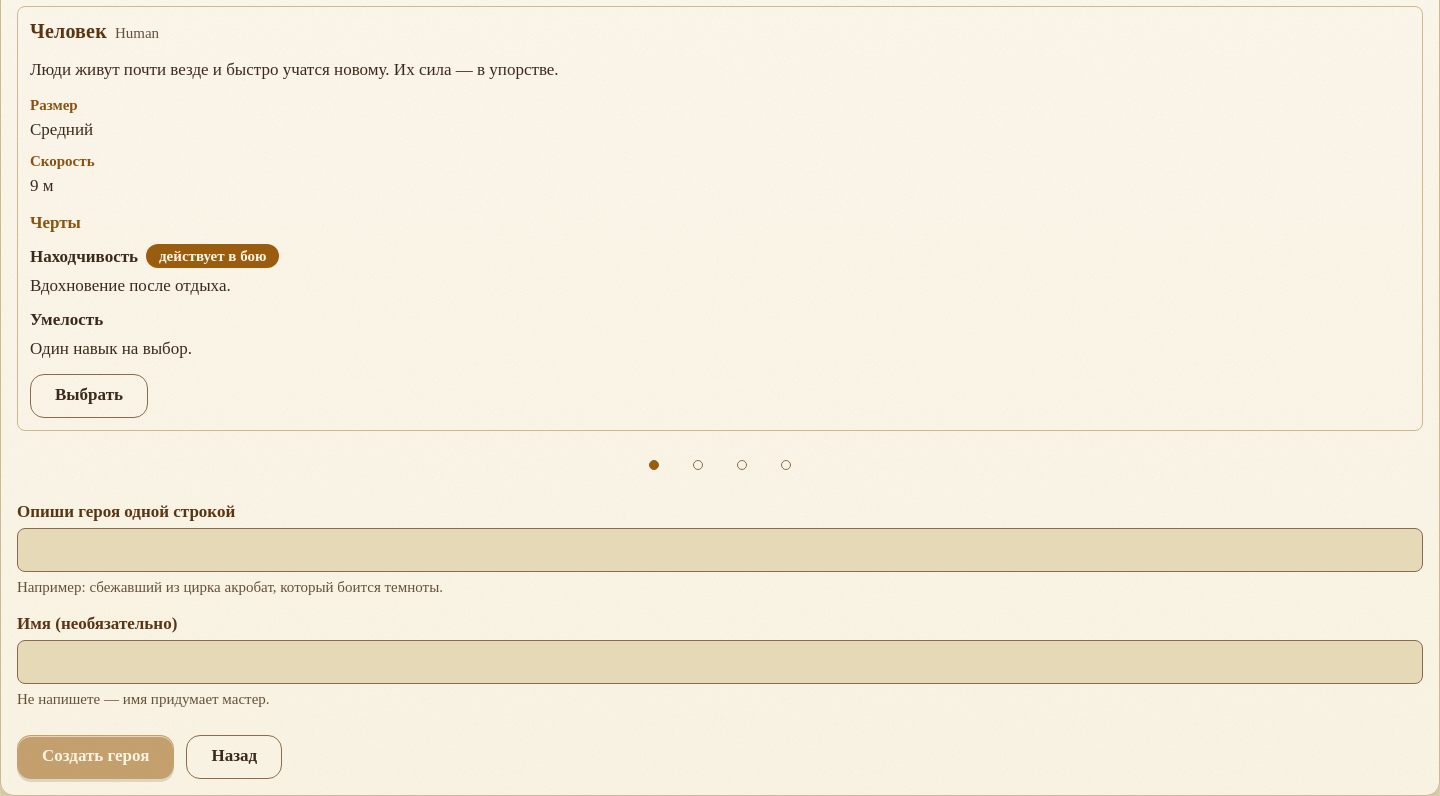
Test: форма быстрого героя › выбор в карусели отмечает показанную карточку «Выбрано»
(page scrolled)
Check: the button "Выбрано" is not shown
Click the button named "Дварф": (742, 464) x1=720 y1=442 x2=764 y2=486
(page scrolled)
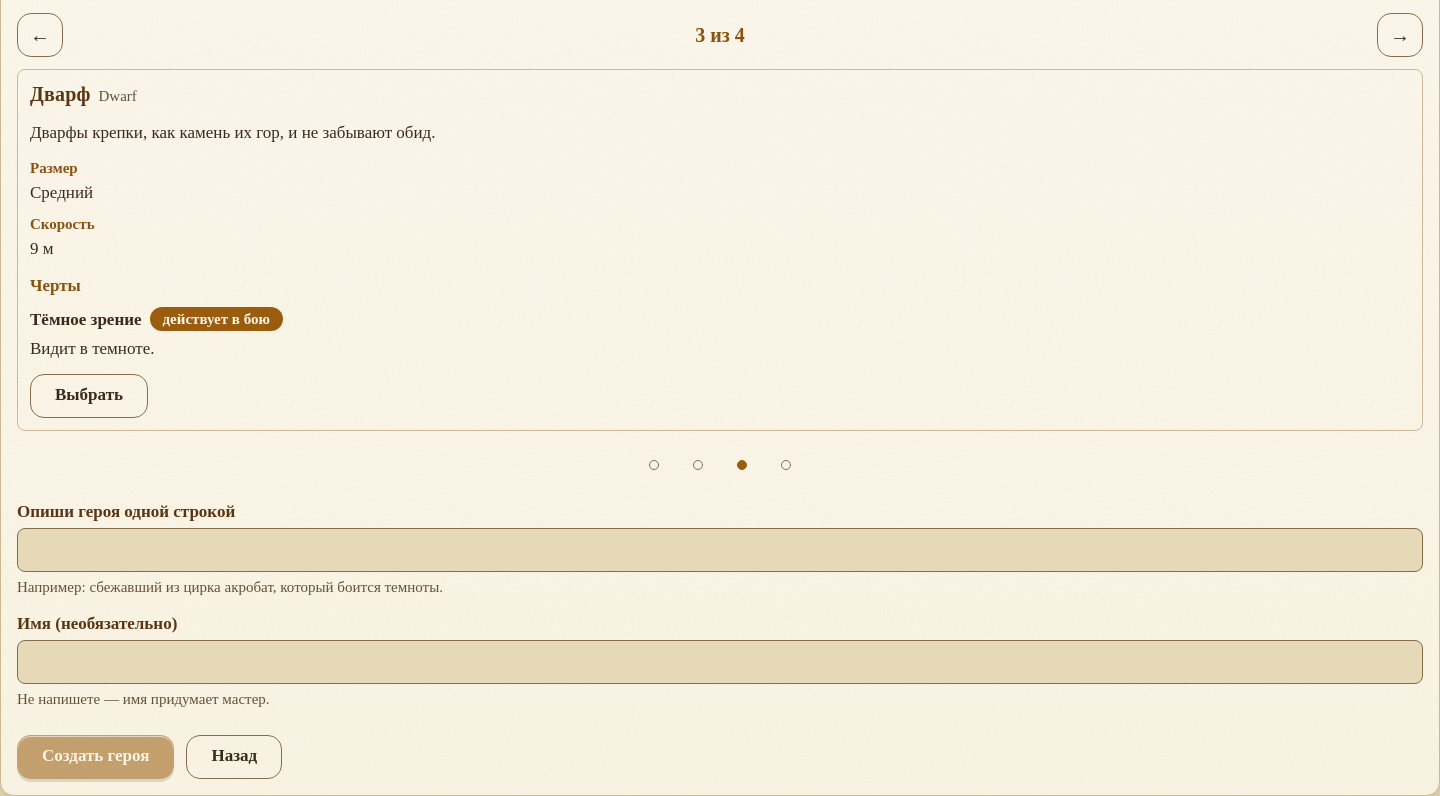
Click the button "Выбрать": (89, 396) x1=30 y1=374 x2=148 y2=418
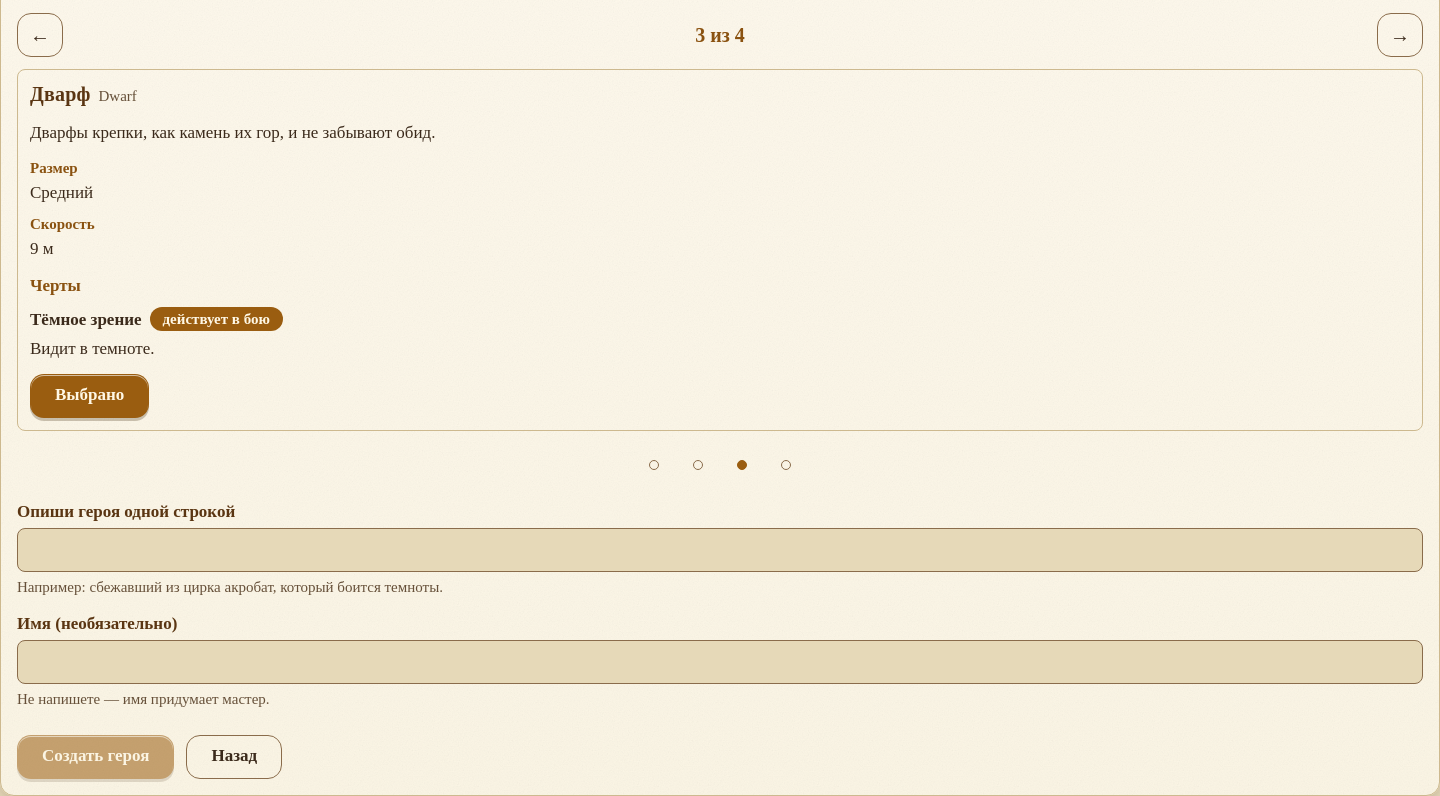
Check: the button "Выбрано" is pressed, box x1=30 y1=374 x2=149 y2=418
Click the button named "Следующая": (1400, 35) x1=1377 y1=13 x2=1423 y2=57
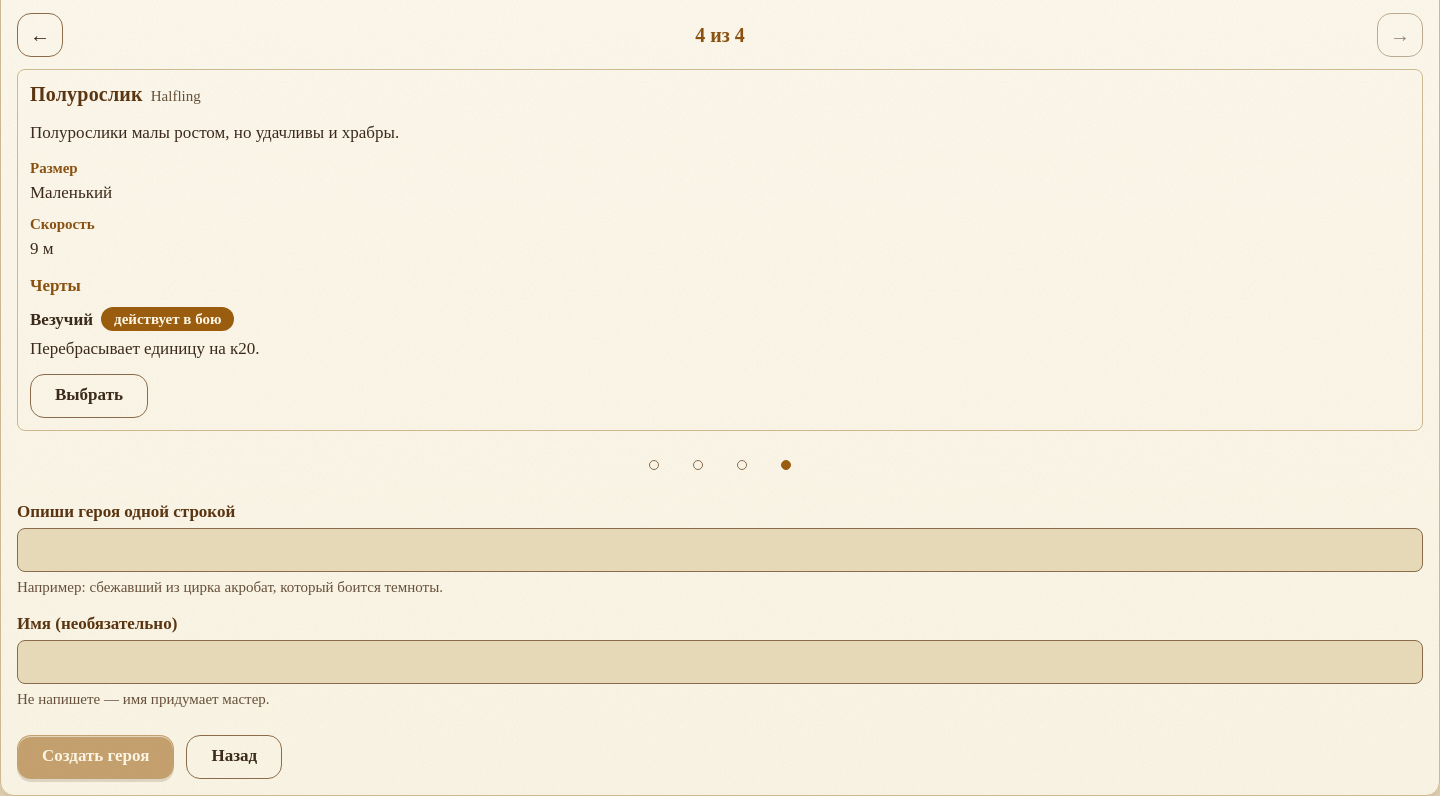
Check: the button "Выбрано" is gone
